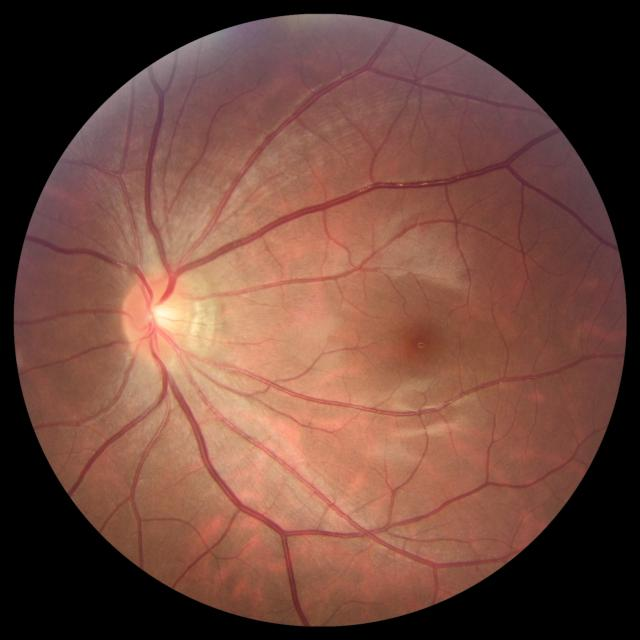OC: (146, 300, 178, 333)
OD: (122, 272, 191, 360)
